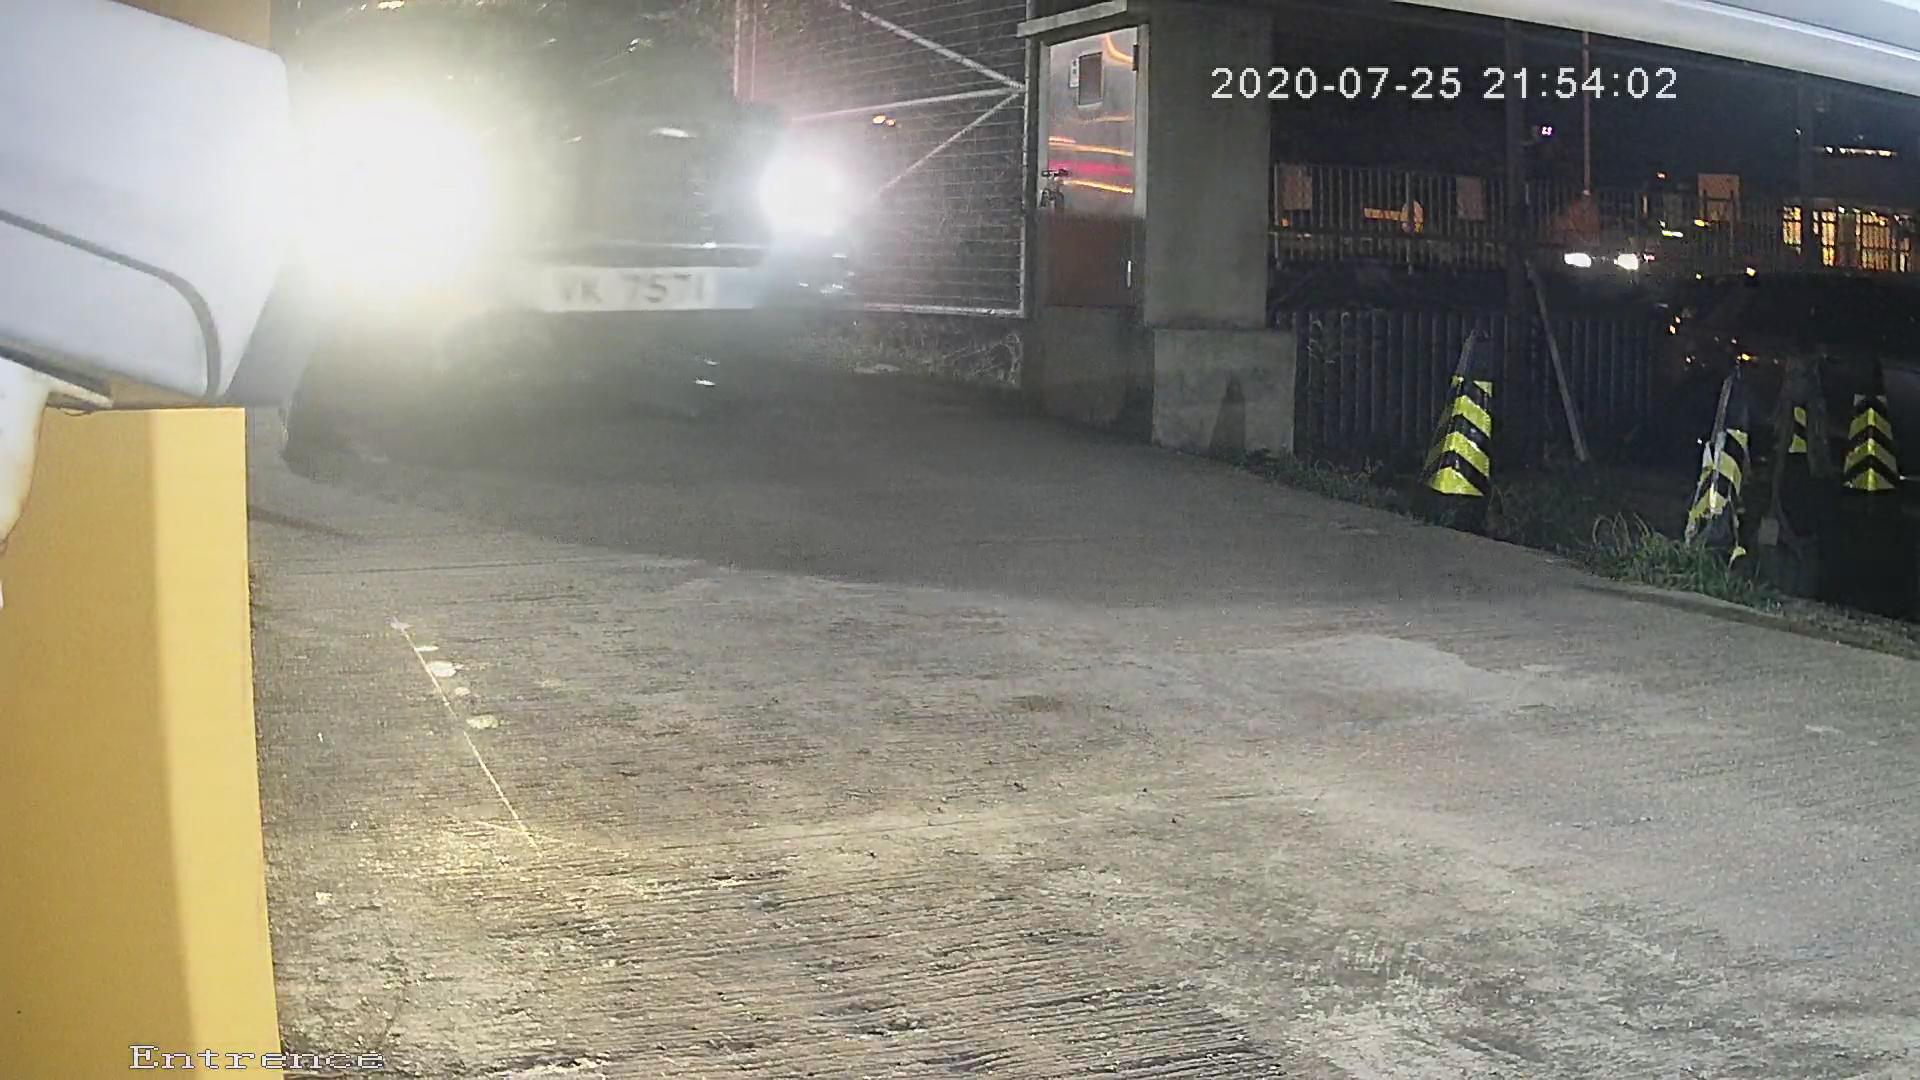License Plate: (527, 247, 774, 344)
